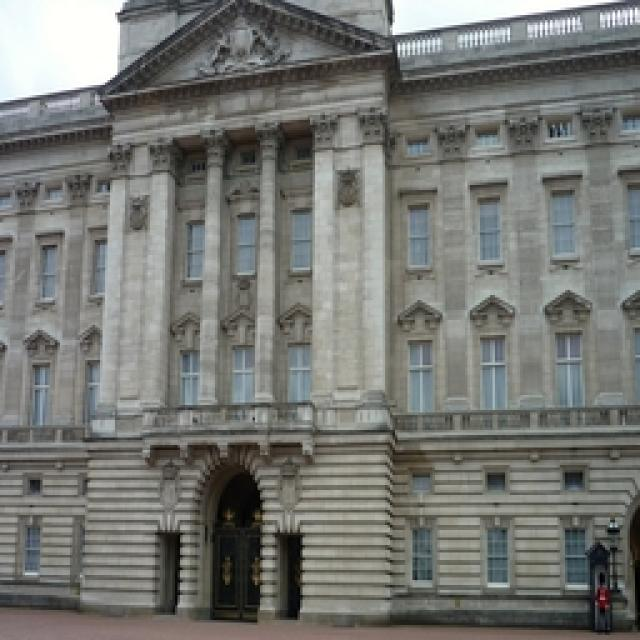Abbey: (151, 120, 362, 640)
